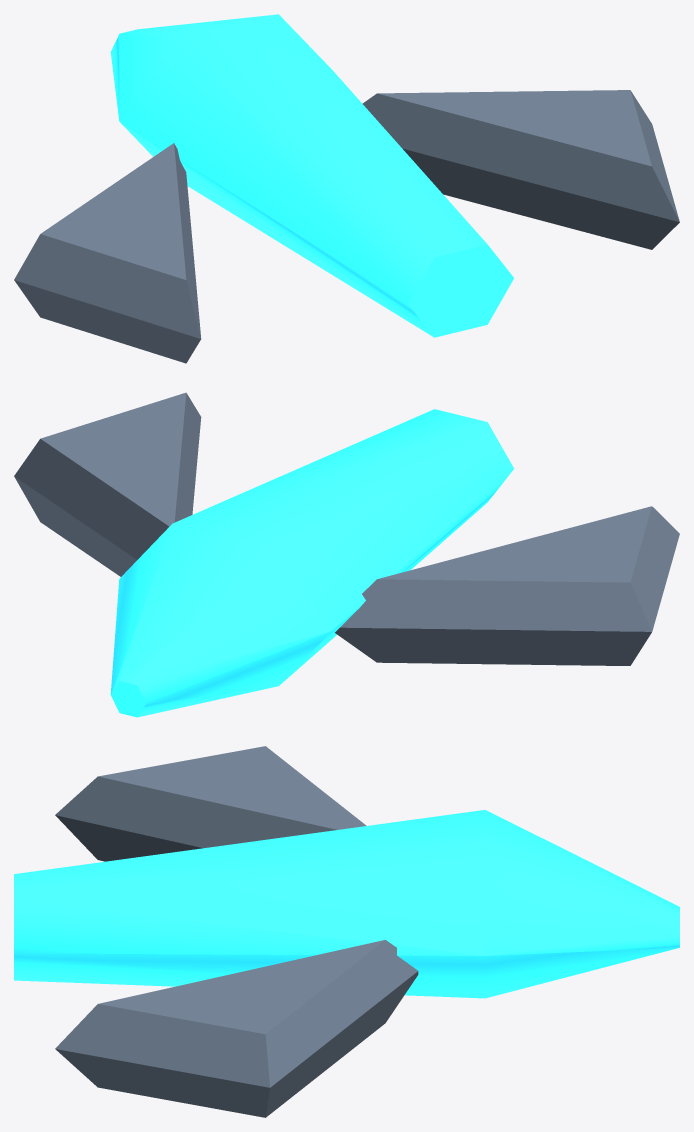
File: player_drone_escort.glb
3 views of the same model, one above another, from view 1: azimuth 30°, elevation 25°; view 2: azimuth 150°, elevation 25°; view 3: azimuth 270°, elevation 25° (orthographic).
Parts seen in each view (by area): view 1: PLAYER UPGRADE // DRONE ESCORT; view 2: PLAYER UPGRADE // DRONE ESCORT; view 3: PLAYER UPGRADE // DRONE ESCORT.
Part boxes in pixels (box(x1,y1,x2,y2)): PLAYER UPGRADE // DRONE ESCORT: box(14, 14, 679, 363); PLAYER UPGRADE // DRONE ESCORT: box(14, 392, 679, 717); PLAYER UPGRADE // DRONE ESCORT: box(14, 746, 679, 1117).
Size of the model in its own units: 1.44 by 0.2972 by 1.3.
